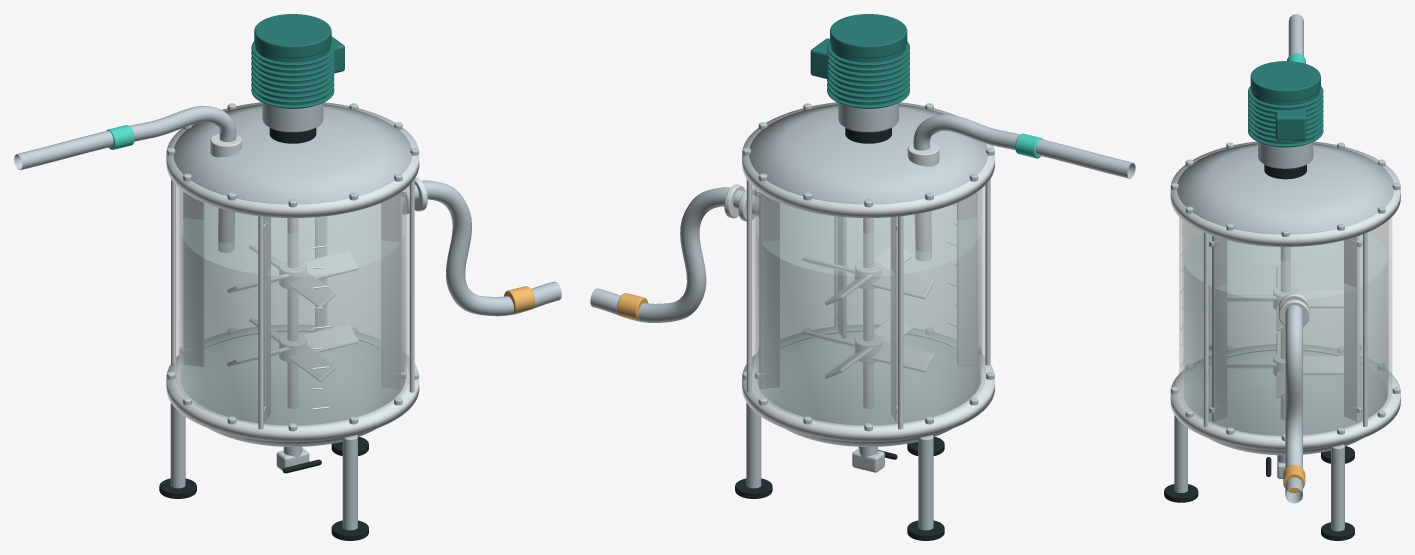
The model's file is cstr.glb.
3 views of the same model, side by side, from view 1: azimuth 30°, elevation 25°; view 2: azimuth 150°, elevation 25°; view 3: azimuth 270°, elevation 25° (orthographic). The views are drawn at different scales.
Parts seen in each view (by area): view 1: Glass_shell, Liquid_volume, Top_lid, Lower_head, Liquid_surface, Bolted_flange_1.03, Bolted_flange_3.14, Feed_pipe, Outlet_pipe, Baffle_3, Baffle_1, Motor_cap (+13 smaller); view 2: Glass_shell, Liquid_volume, Top_lid, Lower_head, Liquid_surface, Bolted_flange_1.03, Feed_pipe, Outlet_pipe, Bolted_flange_3.14, Baffle_0, Baffle_2, Motor_cap (+12 smaller); view 3: Glass_shell, Liquid_volume, Top_lid, Lower_head, Liquid_surface, Bolted_flange_1.03, Bolted_flange_3.14, Outlet_pipe, Baffle_0, Baffle_3, Motor_cap, Support_leg (+17 smaller).
Boxes of the visible parts, <box> form: Glass_shell: <box>176,185,409,426</box>; Liquid_volume: <box>181,230,404,424</box>; Top_lid: <box>173,104,412,204</box>; Lower_head: <box>180,332,405,446</box>; Liquid_surface: <box>181,203,403,275</box>; Bolted_flange_1.03: <box>166,325,419,441</box>; Bolted_flange_3.14: <box>166,102,419,217</box>; Feed_pipe: <box>14,105,236,252</box>; Outlet_pipe: <box>402,180,561,316</box>; Baffle_3: <box>381,195,402,388</box>; Baffle_1: <box>183,191,204,366</box>; Motor_cap: <box>254,14,331,58</box>; Glass_shell: <box>752,185,985,426</box>; Liquid_volume: <box>757,233,979,424</box>; Top_lid: <box>749,104,987,204</box>; Lower_head: <box>756,332,980,446</box>; Liquid_surface: <box>757,203,979,275</box>; Bolted_flange_1.03: <box>742,325,994,441</box>; Feed_pipe: <box>913,114,1135,261</box>; Outlet_pipe: <box>590,187,758,322</box>; Bolted_flange_3.14: <box>742,102,994,217</box>; Baffle_0: <box>759,195,779,388</box>; Baffle_2: <box>957,192,977,366</box>; Motor_cap: <box>830,14,907,58</box>; Glass_shell: <box>1179,217,1391,437</box>; Liquid_volume: <box>1184,258,1387,435</box>; Top_lid: <box>1177,143,1394,234</box>; Lower_head: <box>1183,351,1387,455</box>; Liquid_surface: <box>1184,233,1386,299</box>; Bolted_flange_1.03: <box>1170,344,1400,450</box>; Bolted_flange_3.14: <box>1170,141,1400,246</box>; Outlet_pipe: <box>1285,292,1302,503</box>; Baffle_0: <box>1344,236,1359,421</box>; Baffle_3: <box>1212,236,1227,421</box>; Motor_cap: <box>1250,61,1320,101</box>; Support_leg: <box>1331,444,1344,531</box>.
Bounding box in the file's own units: 5.3 × 4.35 × 2.22.
